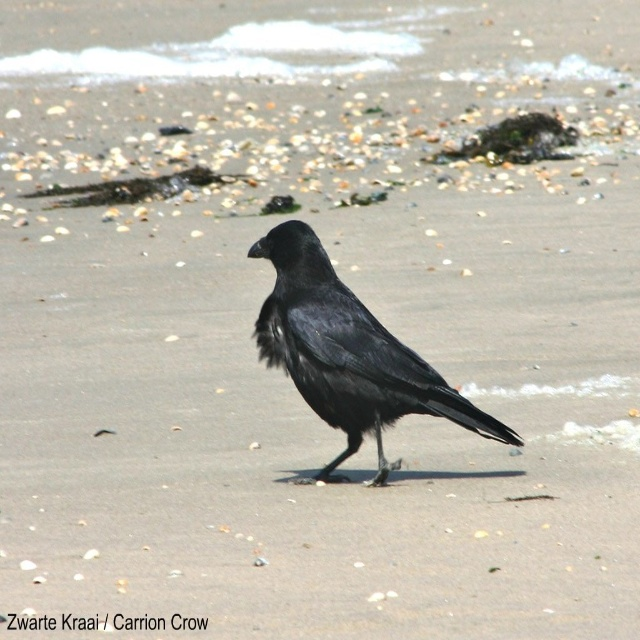Raven: (248, 220, 525, 487)
